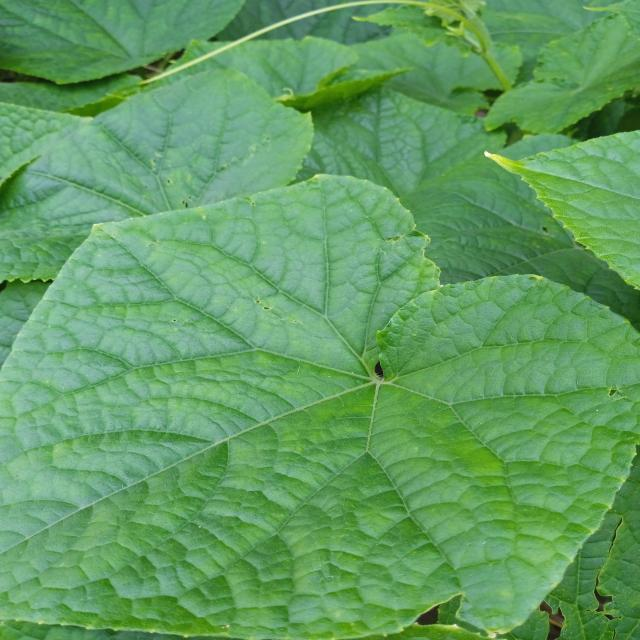cucumber_healthy: (3, 169, 640, 640), (6, 62, 322, 289), (480, 132, 640, 287), (478, 2, 640, 138)
